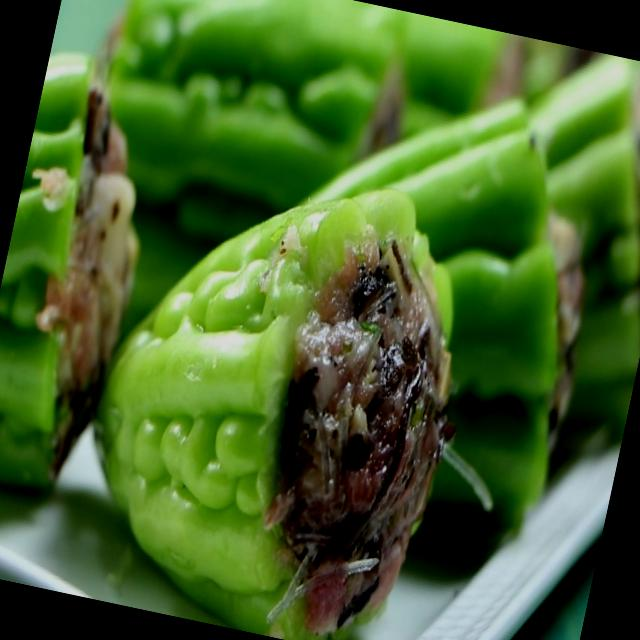kho qua: (96, 190, 453, 640), (0, 52, 138, 484)
